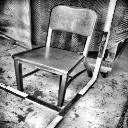chair_success: (6, 2, 100, 110)
